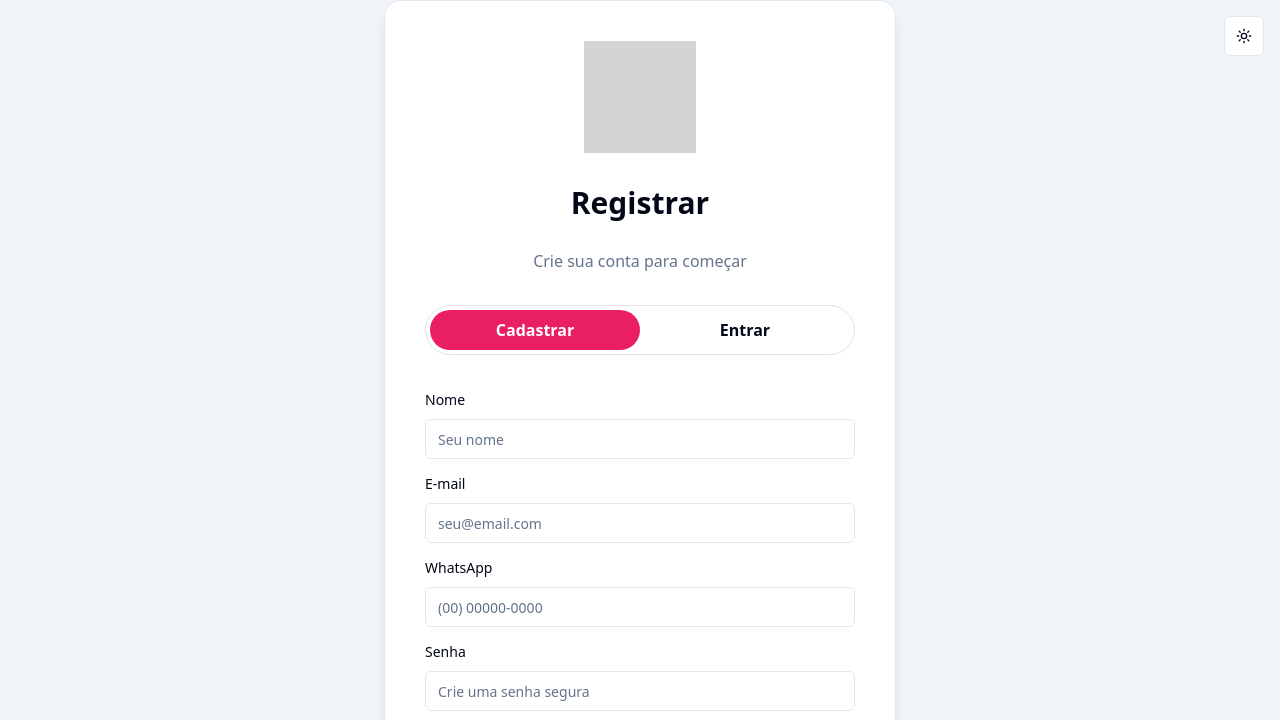
Test: CreatorSignUp › Auth Type Toggle › switches to signin form when signin button is clicked
Expected: the heading "Registrar" is shown, [571, 185, 709, 221]
Expected: the text "Crie sua conta para começar" is shown, [533, 249, 747, 273]
Click the button "Entrar": [745, 330] box [640, 310, 850, 350]
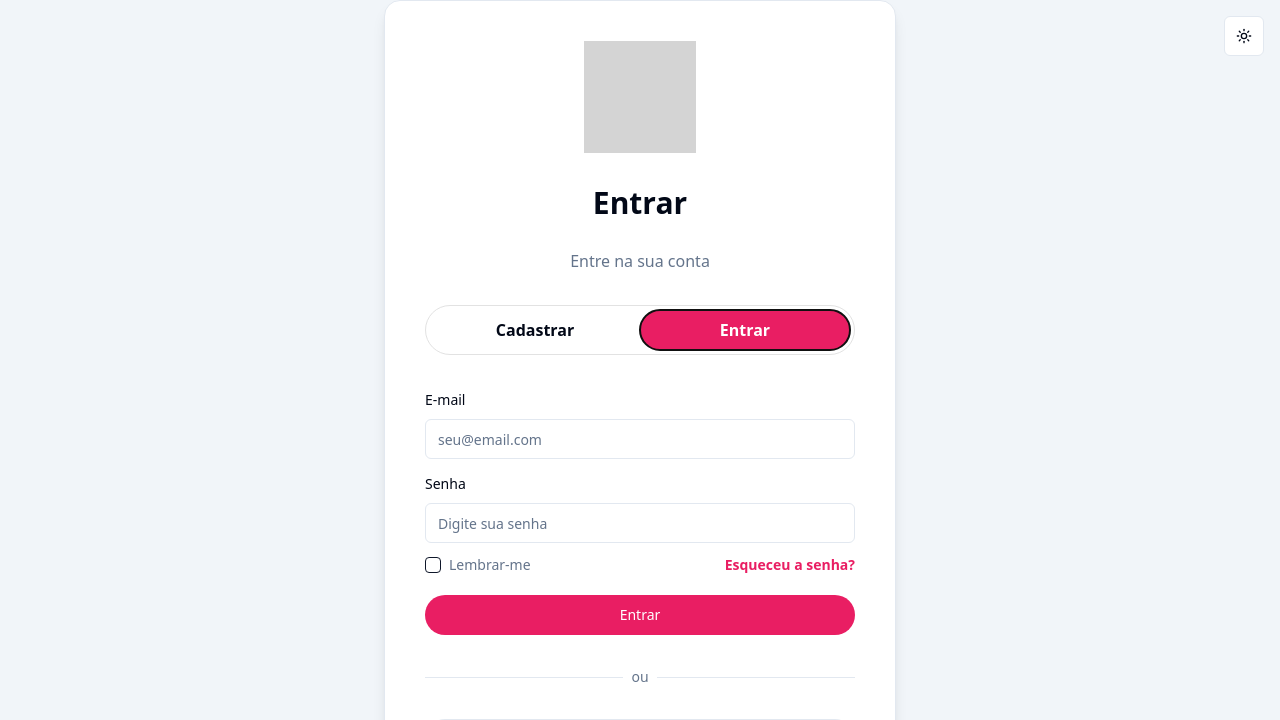
Now the heading "Entrar" is shown, box [593, 185, 687, 221]
Now the text "Entre na sua conta" is shown, box [570, 249, 710, 273]
Now the submit button reads "Entrar", box [425, 595, 855, 635]
